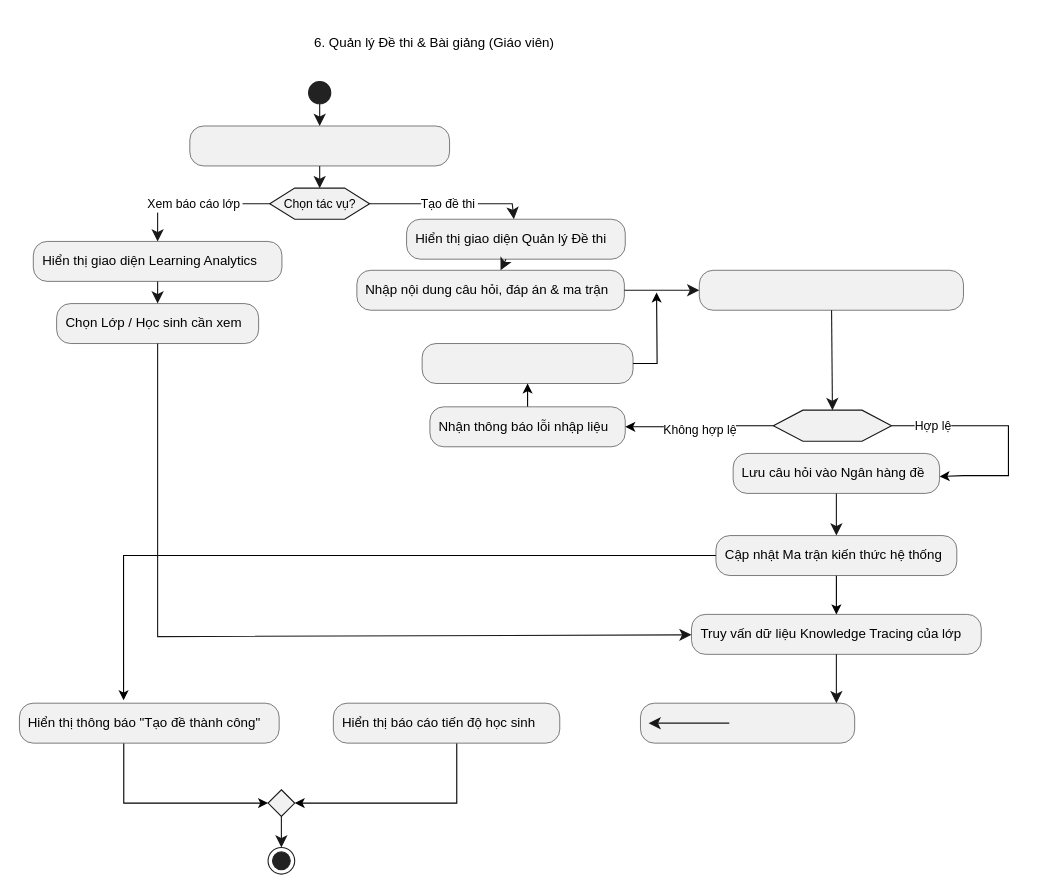
Some shapes in this 1037 by 894 pixel diagram are drawn without their labels. Each missing label, with the centre of its shape:
"Chỉnh sửa lại thông tin câu hỏi" belongs at point 527,363.
"Dữ liệu hợp lệ?" belongs at point 832,425.
"Hiển thị giao diện Dashboard Giáo viên" belongs at point 319,145.
"Kiểm tra tính hợp lệ của dữ liệu câu hỏi" belongs at point 831,290.
"Trực quan hóa biểu đồ năng lực" belongs at point 747,722.
